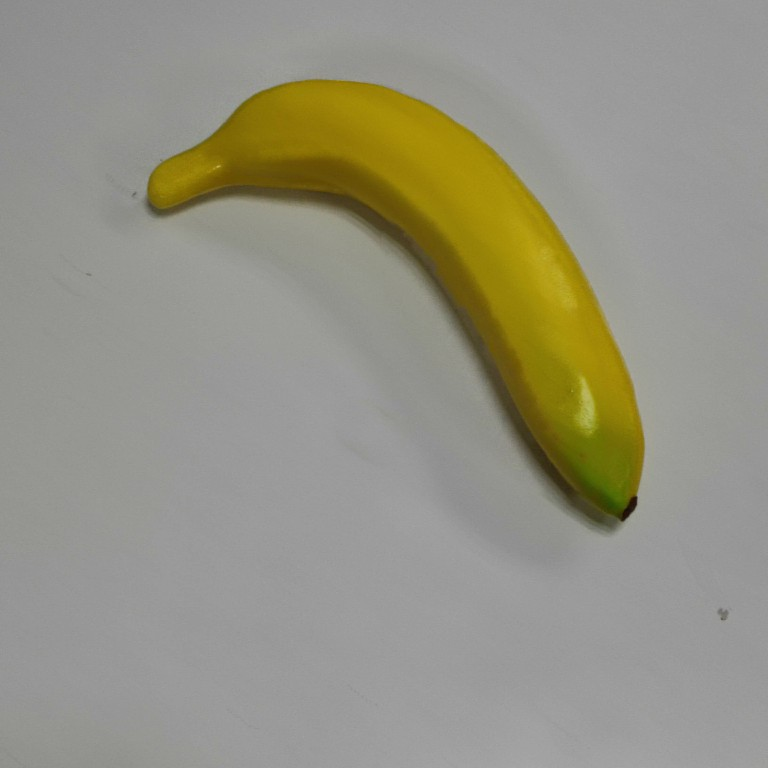fruit_banana: (141, 75, 648, 528)
